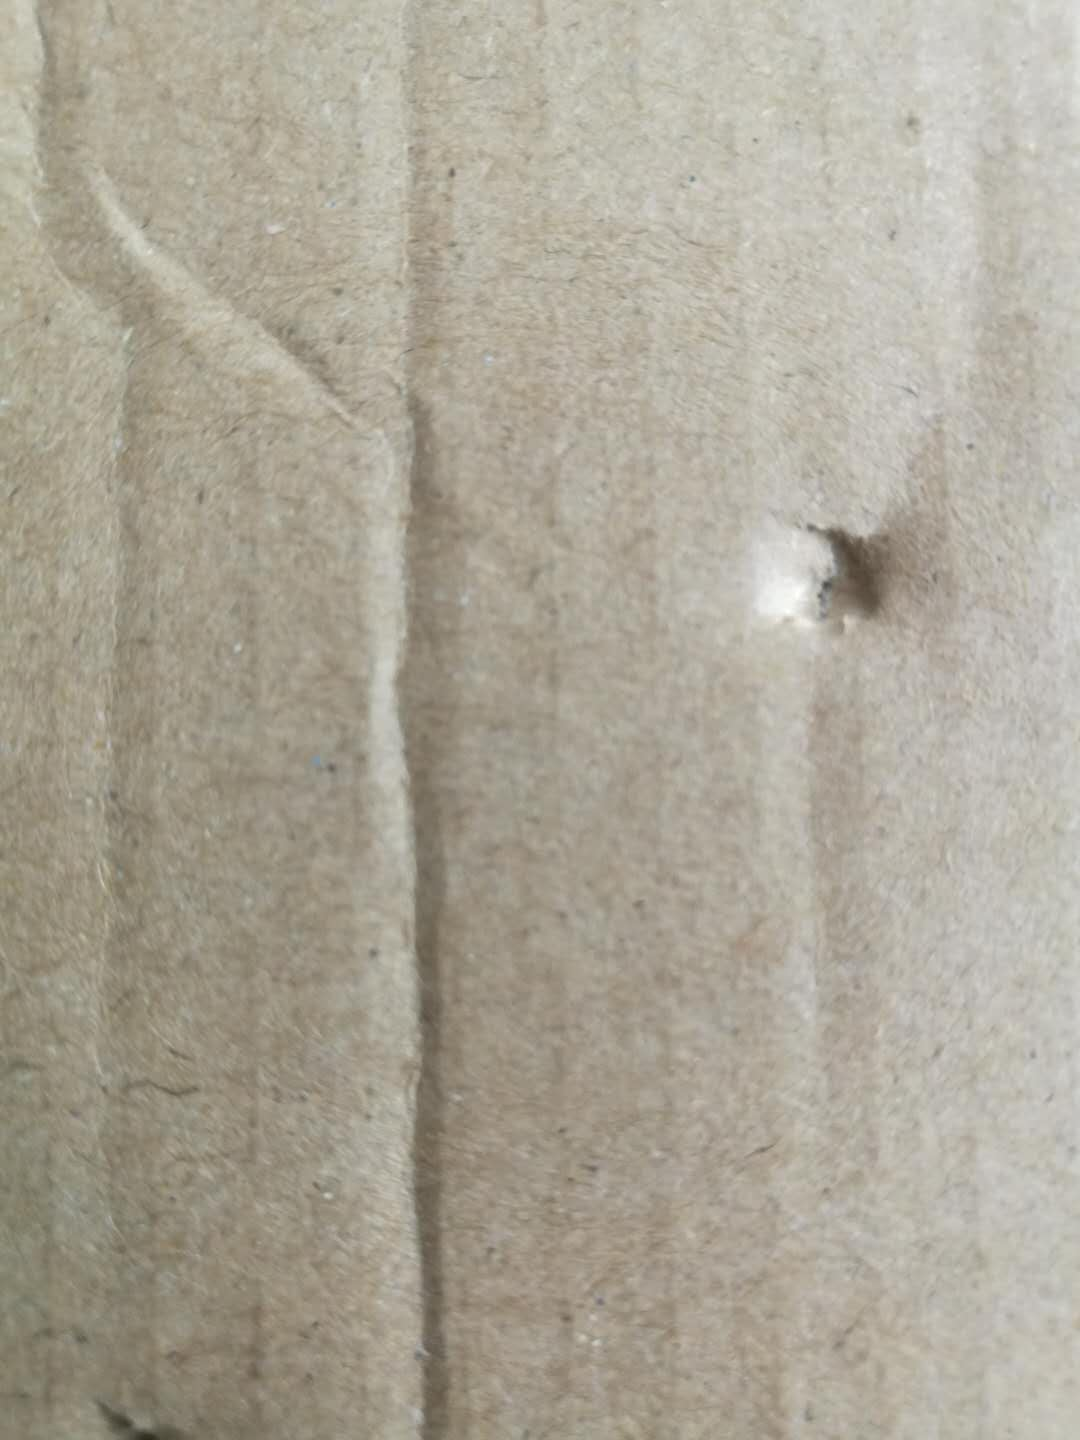defect: (5, 2, 349, 1107), (357, 5, 531, 1440), (706, 461, 952, 664)
